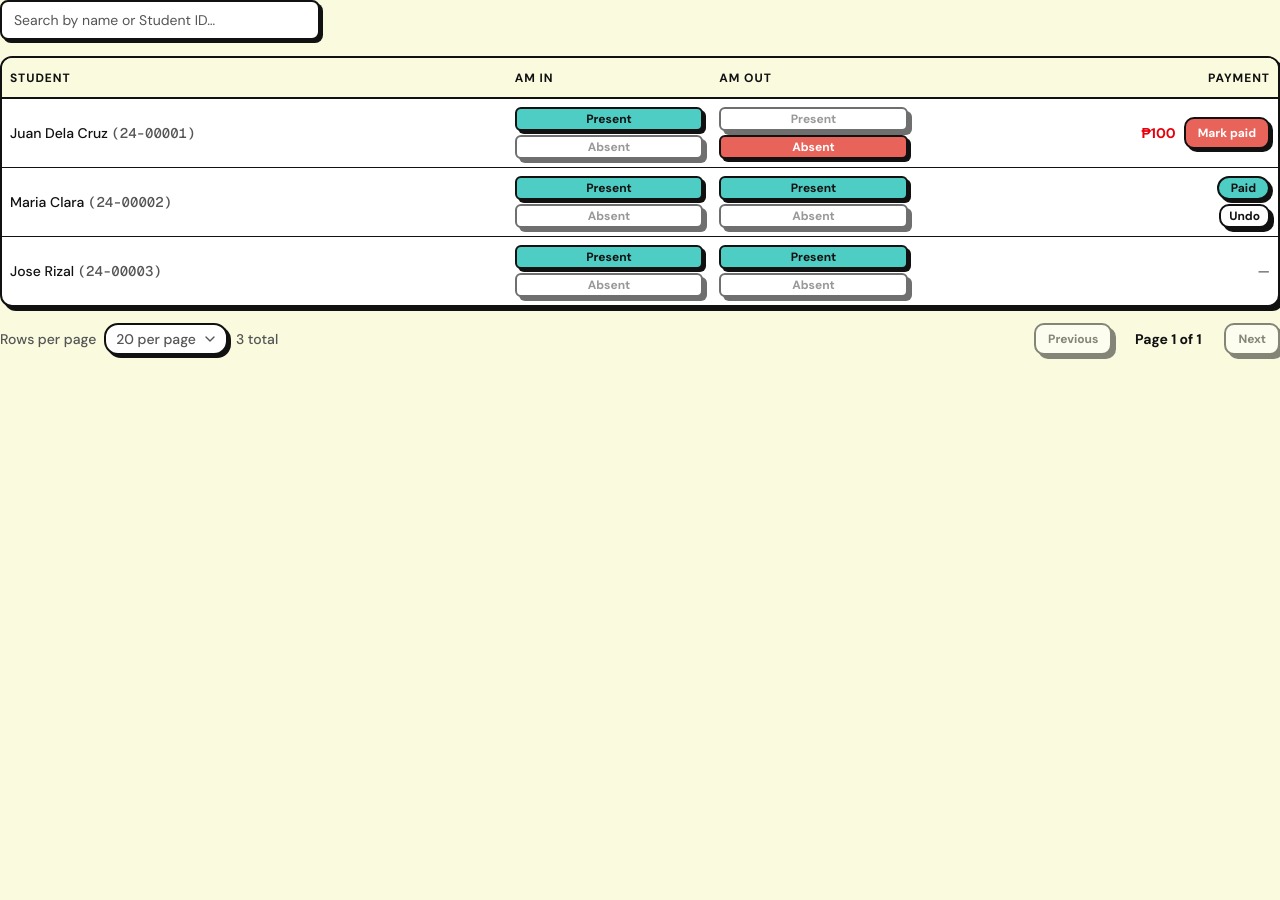
Test: AttendanceGrid & Sentinel Controls › shows markPaid's rejection message inline instead of crashing to the error boundary
Click the button "Mark paid" at (1227, 133), box [1184,117,1270,149]
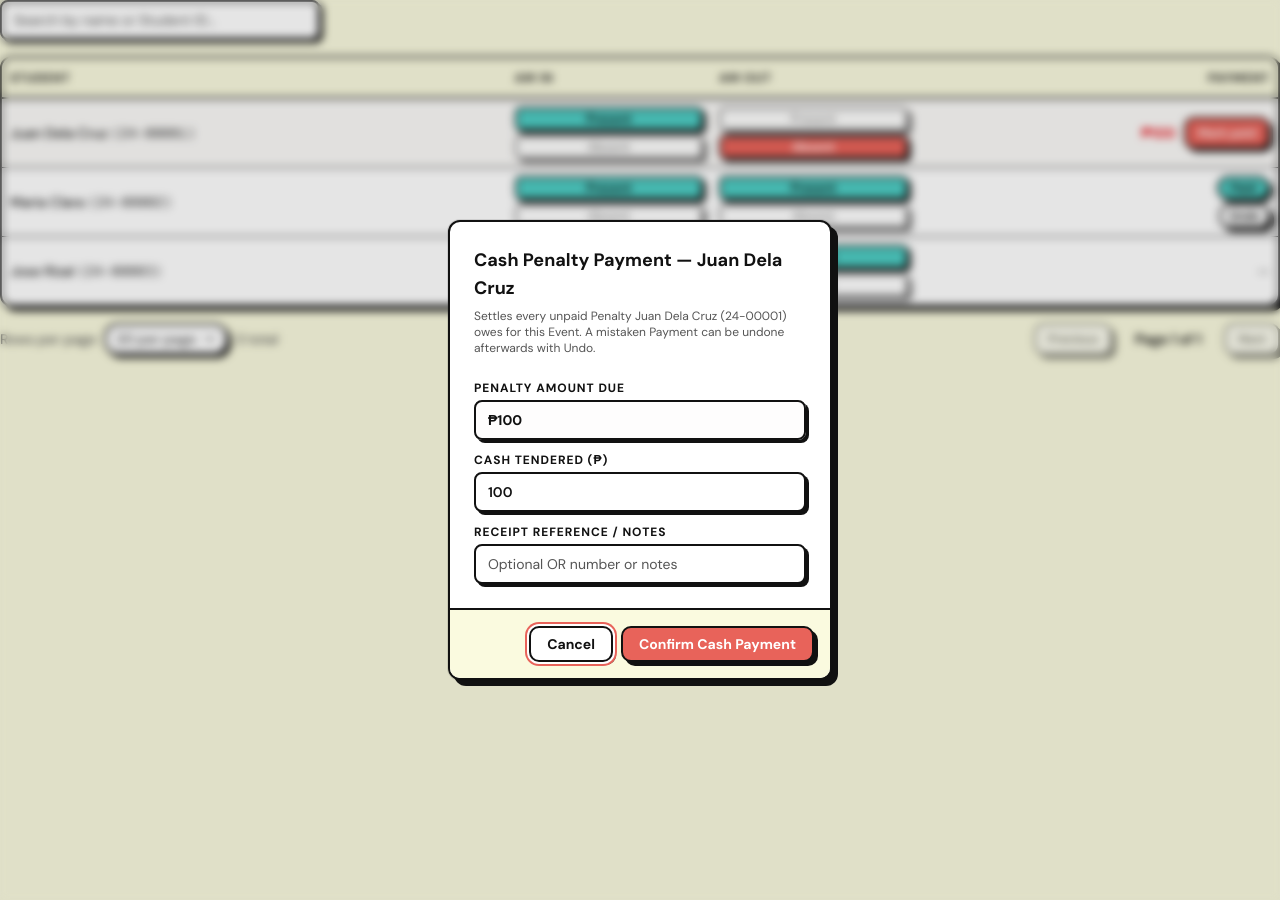
Click the button "Confirm Cash Payment" at (718, 644), box [621,626,814,662]
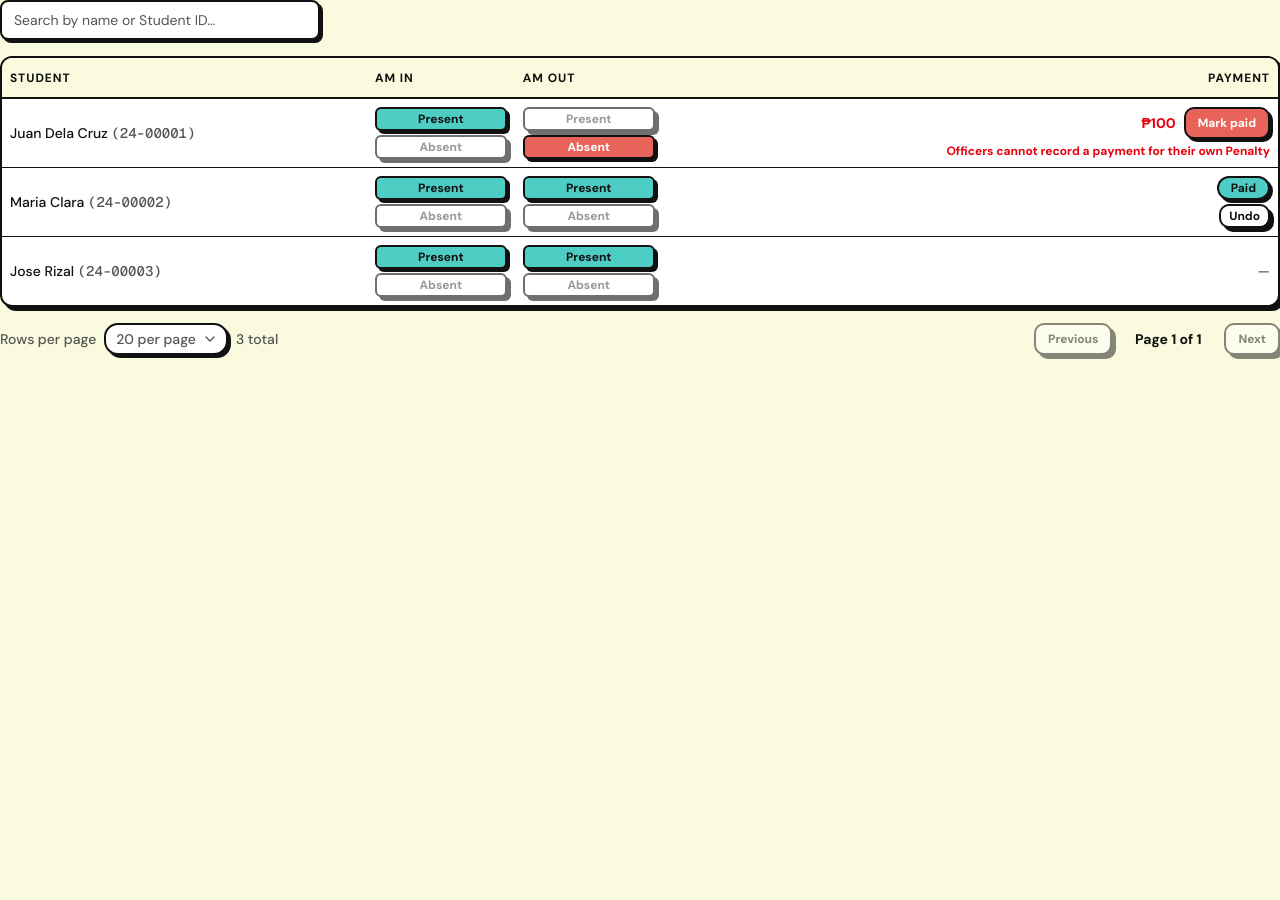
Expected: the text "Officers cannot record a payment for their own Penalty" is shown, [946,143,1270,159]
